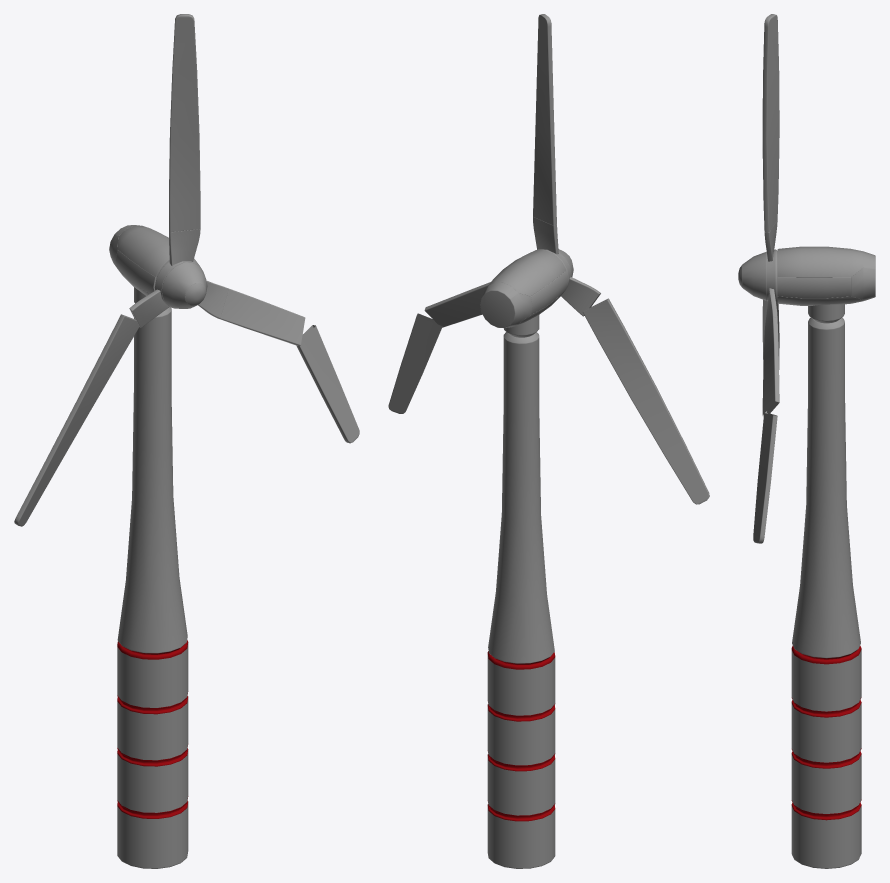
File: brokeWindTurbine.FBX
3 renders of one model, left to right at view 1: azimuth 30°, elevation 25°; view 2: azimuth 150°, elevation 25°; view 3: azimuth 270°, elevation 25°, orthographic. The views are drawn at different scales.
Visible parts, largest first — view 1: cylinder84, polymsh_detached134, polymsh_extracted67, polymsh_extracted71, Object001, polymsh_extracted72, polymsh_extracted65, polymsh_detached130, polymsh_detached129, polymsh_detached132, polymsh_detached135, polymsh_extracted66 (+1 smaller); view 2: cylinder84, polymsh_detached134, polymsh_extracted71, polymsh_extracted67, Object001, polymsh_extracted65, polymsh_detached131, polymsh_extracted72, polymsh_detached135, polymsh_detached132, polymsh_detached129; view 3: cylinder84, polymsh_detached134, polymsh_extracted67, polymsh_extracted65, Object001, polymsh_detached132, polymsh_extracted72, polymsh_detached130, polymsh_detached131, polymsh_detached133, polymsh_extracted66, polymsh_detached129 (+2 smaller).
Boxes of the visible parts, <box> form: cylinder84: <box>117,307,187,654</box>; polymsh_detached134: <box>117,640,188,868</box>; polymsh_extracted67: <box>169,14,200,232</box>; polymsh_extracted71: <box>14,314,139,526</box>; Object001: <box>296,325,359,443</box>; polymsh_extracted72: <box>218,288,305,345</box>; polymsh_extracted65: <box>117,225,199,295</box>; polymsh_detached130: <box>161,262,207,308</box>; polymsh_detached129: <box>169,229,200,265</box>; polymsh_detached132: <box>116,250,156,293</box>; polymsh_detached135: <box>129,289,169,327</box>; polymsh_extracted66: <box>154,259,205,308</box>; cylinder84: <box>488,332,554,664</box>; polymsh_detached134: <box>487,651,555,868</box>; polymsh_extracted71: <box>583,298,709,504</box>; polymsh_extracted67: <box>533,14,556,225</box>; Object001: <box>388,313,442,413</box>; polymsh_extracted65: <box>488,250,566,326</box>; polymsh_detached131: <box>480,282,532,327</box>; polymsh_extracted72: <box>424,282,490,327</box>; polymsh_detached135: <box>561,277,600,316</box>; polymsh_detached132: <box>531,270,568,314</box>; polymsh_detached129: <box>533,217,558,254</box>; cylinder84: <box>792,317,860,659</box>; polymsh_detached134: <box>791,645,861,868</box>; polymsh_extracted67: <box>762,14,779,232</box>; polymsh_extracted65: <box>777,246,863,305</box>; Object001: <box>753,413,777,543</box>; polymsh_detached132: <box>777,277,850,298</box>; polymsh_extracted72: <box>762,317,779,416</box>; polymsh_detached130: <box>742,252,766,300</box>; polymsh_detached131: <box>851,251,875,300</box>; polymsh_detached133: <box>808,304,844,323</box>; polymsh_extracted66: <box>738,249,777,302</box>; polymsh_detached129: <box>764,220,777,261</box>.
Bounding box in the file's own units: 29.2 × 70.41 × 10.42.
